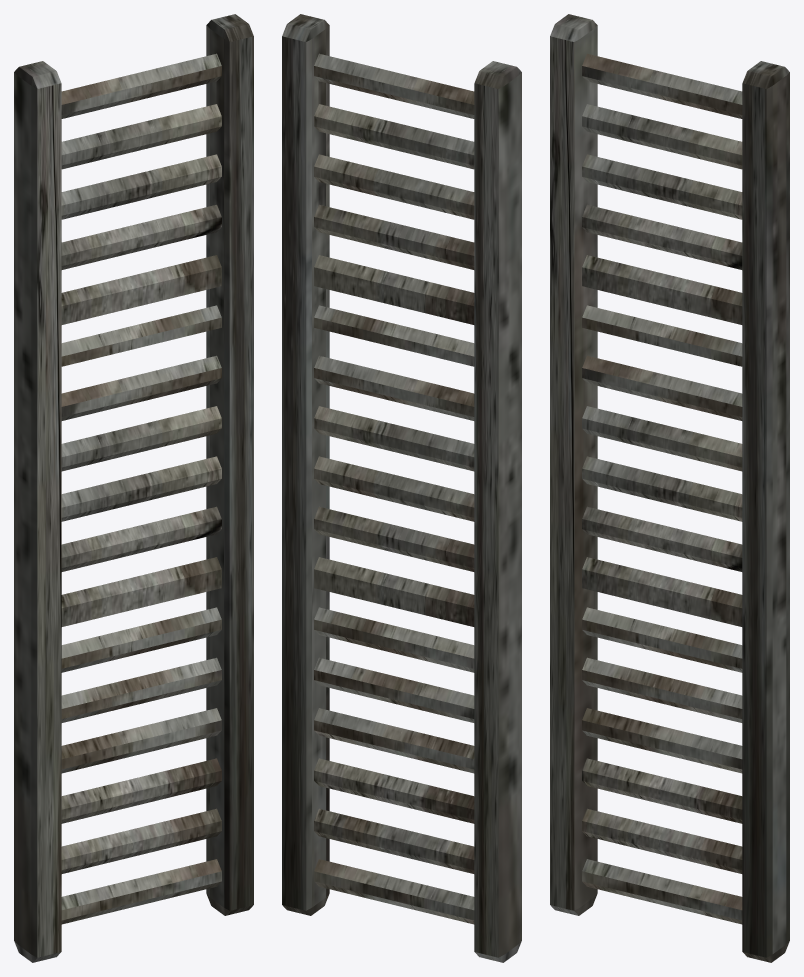
The model's file is cleetus simpson.fbx.
3 views of the same model, side by side, from view 1: azimuth 30°, elevation 25°; view 2: azimuth 150°, elevation 25°; view 3: azimuth 330°, elevation 25° (orthographic).
Visible parts, largest first — view 1: Cube; view 2: Cube; view 3: Cube.
Boxes of the visible parts, x1=… form: Cube: x1=14, y1=14, x2=253, y2=962; Cube: x1=282, y1=14, x2=521, y2=962; Cube: x1=550, y1=14, x2=789, y2=962.
Size of the model in its own units: 227 by 880 by 42.02.
